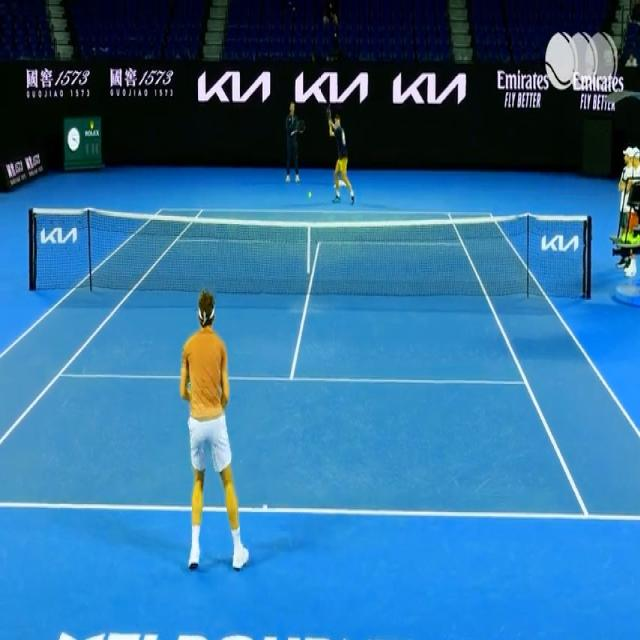ready-position: (180, 294, 250, 574)
